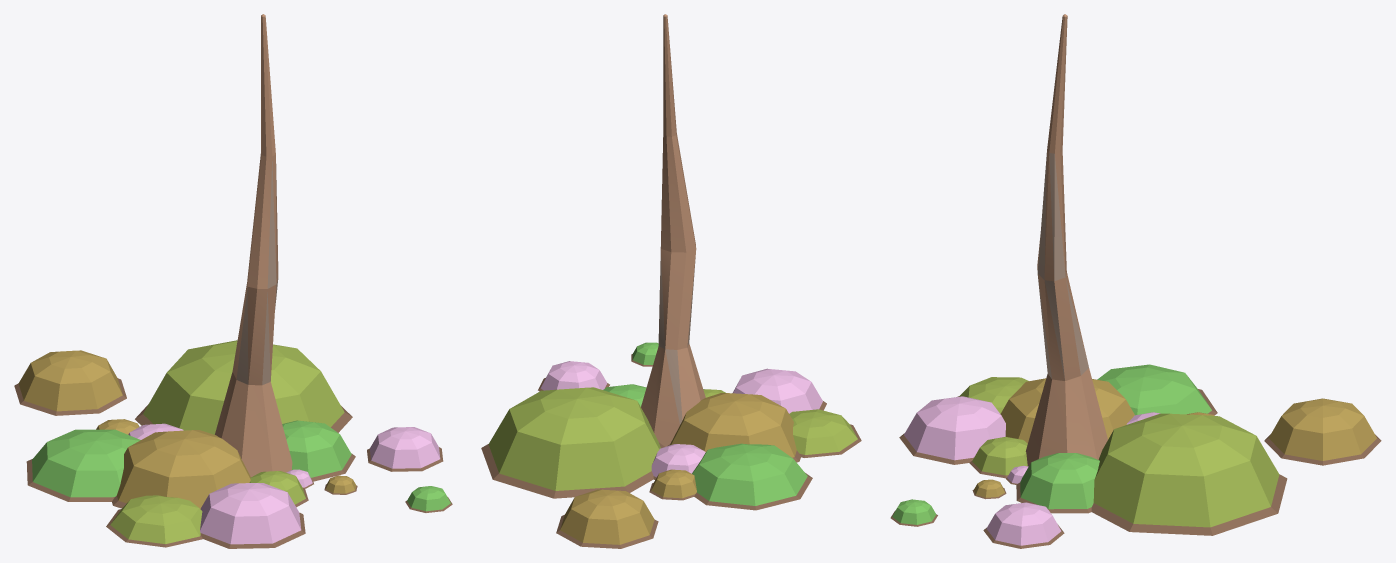
The model's file is coreTrunk.fbx.
3 views of the same model, side by side, from view 1: azimuth 30°, elevation 25°; view 2: azimuth 150°, elevation 25°; view 3: azimuth 270°, elevation 25° (orthographic). The views are drawn at different scales.
Visible parts, largest first — view 1: coreTrunk; view 2: coreTrunk; view 3: coreTrunk.
Part boxes in pixels (x1,y1,x2,y2): coreTrunk: (14,14,452,548); coreTrunk: (481,14,861,548); coreTrunk: (890,14,1381,548).
Bounding box in the file's own units: 863 × 1080 × 1049.
Materials: 7 (7 with a texture image).
